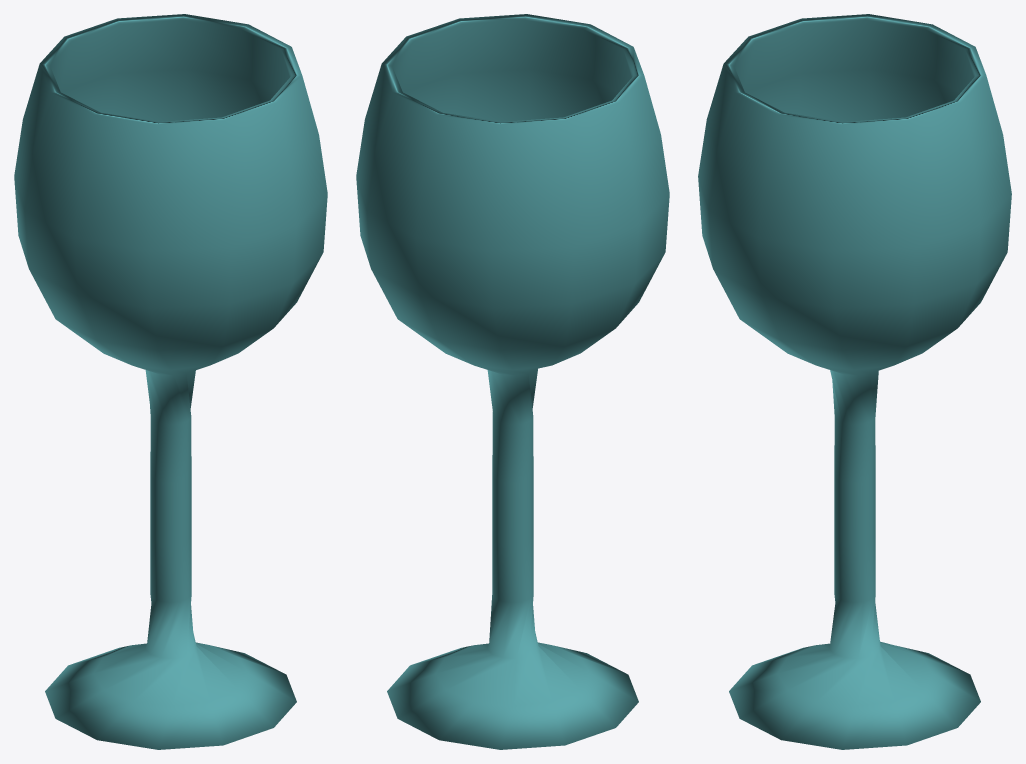
File: copa 2.fbx
The picture shows the model from 3 angles, left to right: view 1: azimuth 30°, elevation 25°; view 2: azimuth 150°, elevation 25°; view 3: azimuth 270°, elevation 25°; orthographic projection.
Visible parts, largest first — view 1: nurbsToPoly2; view 2: nurbsToPoly2; view 3: nurbsToPoly2.
Part boxes in pixels (x1,y1,x2,y2): nurbsToPoly2: [14, 14, 327, 749]; nurbsToPoly2: [356, 14, 669, 749]; nurbsToPoly2: [698, 14, 1011, 749].
Size of the model in its own units: 10.79 by 24.25 by 10.79.
